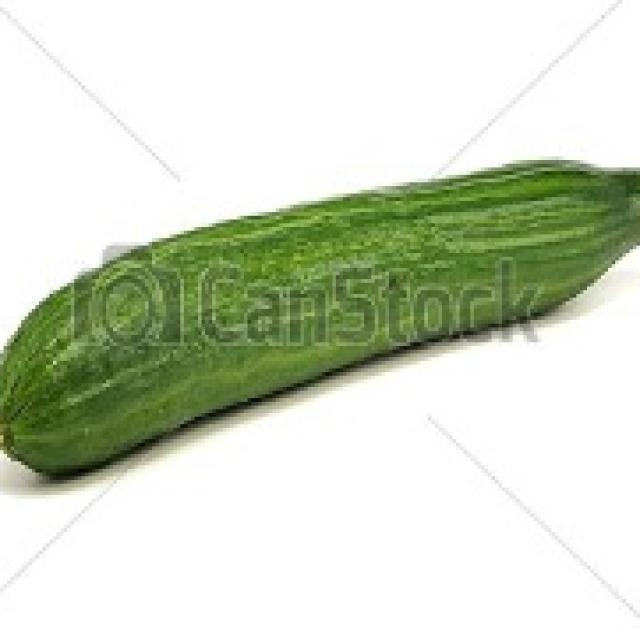cucumber: (0, 145, 640, 484)
